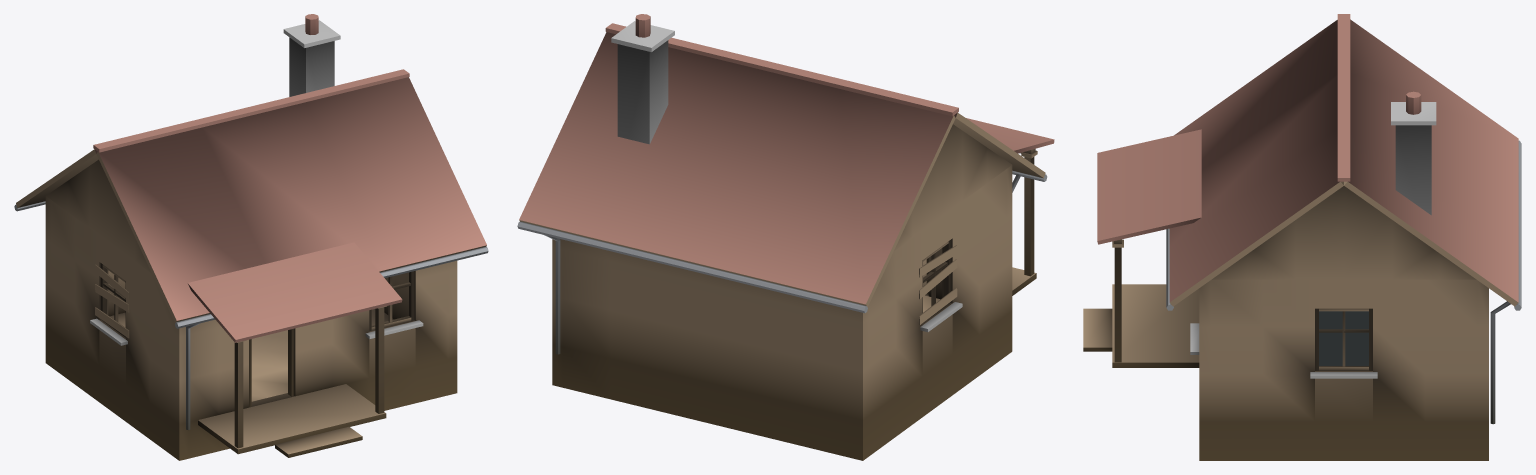
The model's file is cottage.glb.
The picture shows the model from 3 angles, left to right: view 1: azimuth 30°, elevation 25°; view 2: azimuth 150°, elevation 25°; view 3: azimuth 270°, elevation 25°; orthographic projection. The views are drawn at different scales.
Visible parts, largest first — view 1: cottage; view 2: cottage; view 3: cottage.
Boxes of the visible parts, <box> form: cottage: <box>14,14,488,460</box>; cottage: <box>517,14,1054,460</box>; cottage: <box>1083,14,1521,460</box>.
Bounding box in the file's own units: 6.7 × 6.5 × 7.57.
